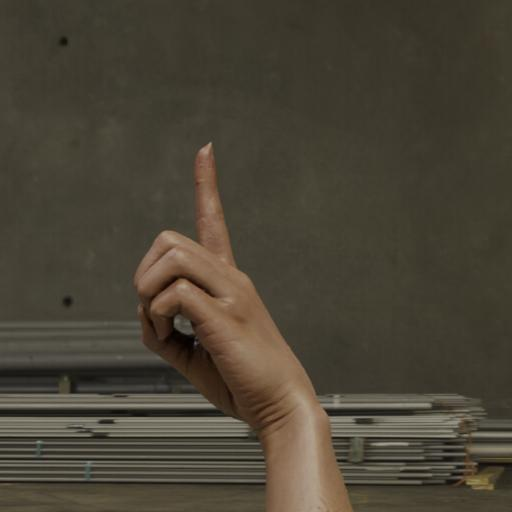D: (99, 124, 334, 434)
